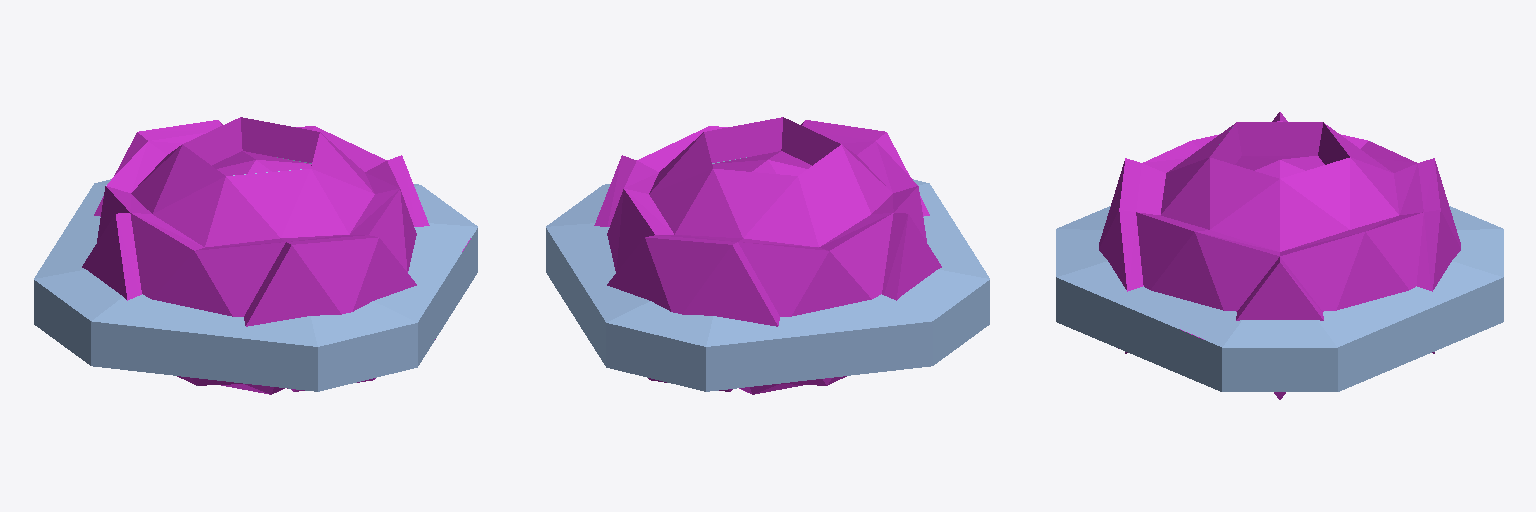
3 renders of one model, left to right at view 1: azimuth 30°, elevation 25°; view 2: azimuth 150°, elevation 25°; view 3: azimuth 270°, elevation 25°, orthographic.
Visible parts, largest first — view 1: Boss, 立方体; view 2: Boss, 立方体; view 3: Boss, 立方体.
Boxes of the visible parts, <box> form: Boss: <box>82,117,429,394</box>; 立方体: <box>34,179,477,391</box>; Boss: <box>594,117,941,394</box>; 立方体: <box>546,179,989,391</box>; Boss: <box>1099,112,1460,399</box>; 立方体: <box>1056,206,1503,391</box>.
Bounding box in the file's own units: 3.18 × 1.7 × 3.18.
1 materials, 1 textured.